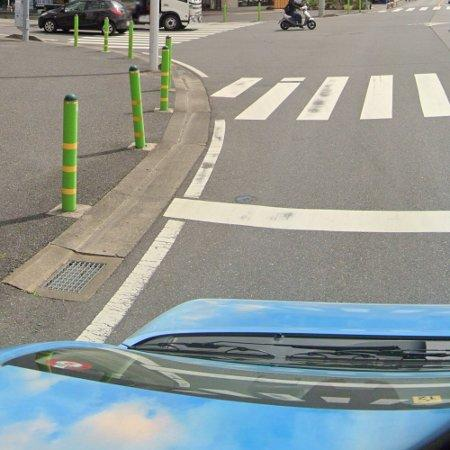crosswalks: (209, 72, 450, 125)
